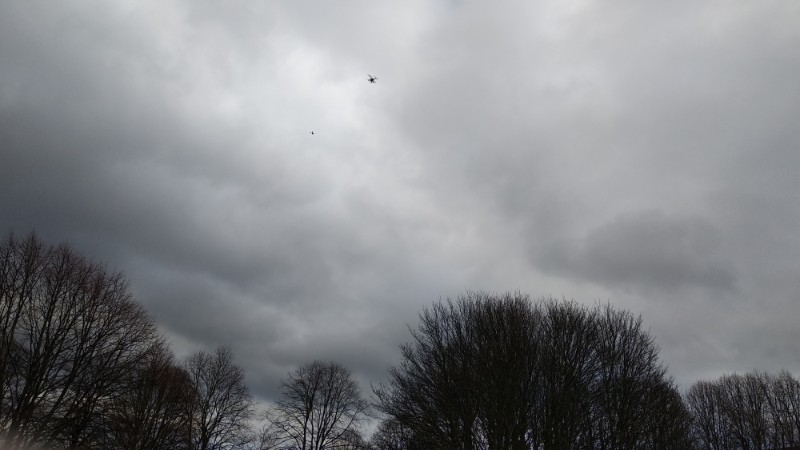drone: (367, 74, 377, 83)
